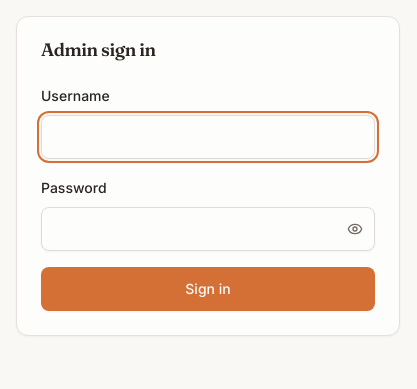
Test case: AdminLogin — every failure mode says something actionable › F10: shows the server's generic message on a 401
Type "admin" into the field labelled "Username". click: (208, 137)
box: [41,115,375,159]
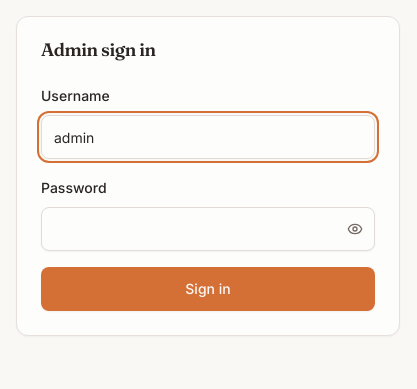
Type "s3cret" into the password field labelled "Password". click: (208, 229)
box: [41,207,375,251]
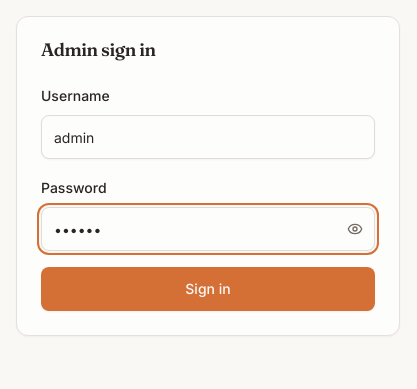
Click the button "Sign in". click: (208, 289)
box: [41,267,375,311]
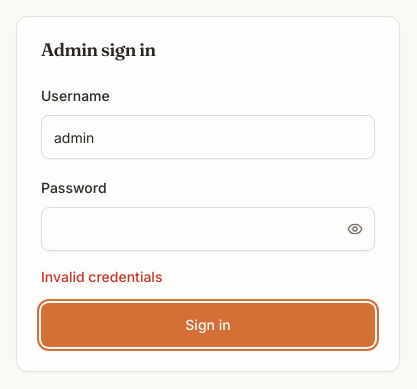
Result: the message reads "Invalid credentials" at [41,268,162,285]
